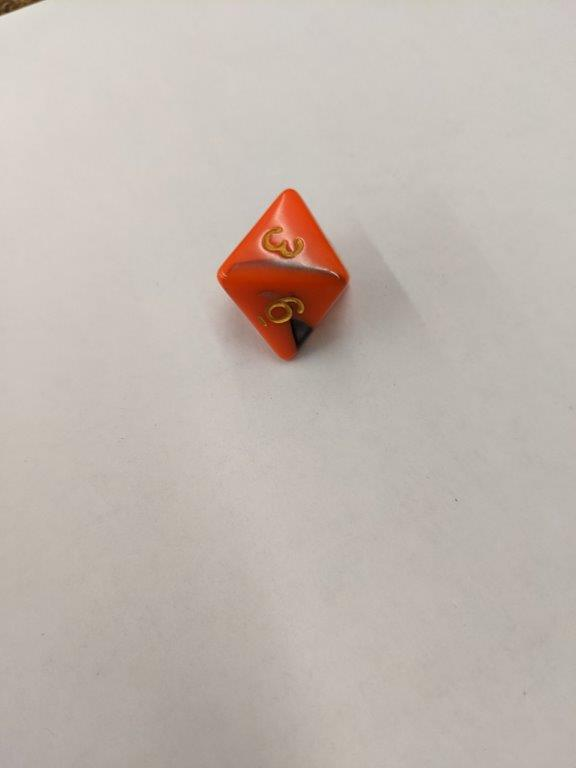d8-3: (216, 188, 352, 363)
